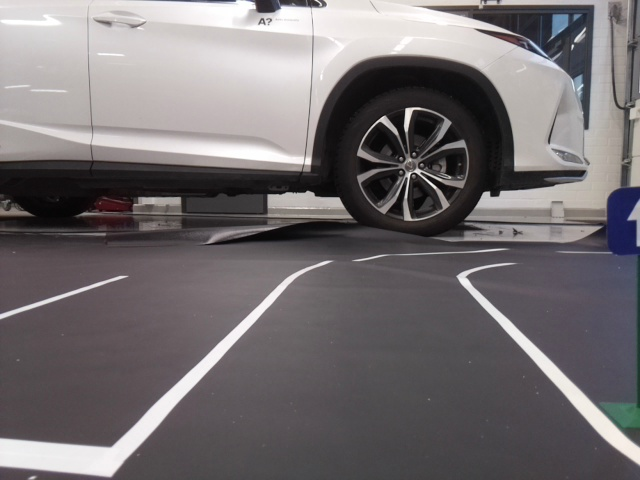OneWay: (610, 186, 639, 251)
